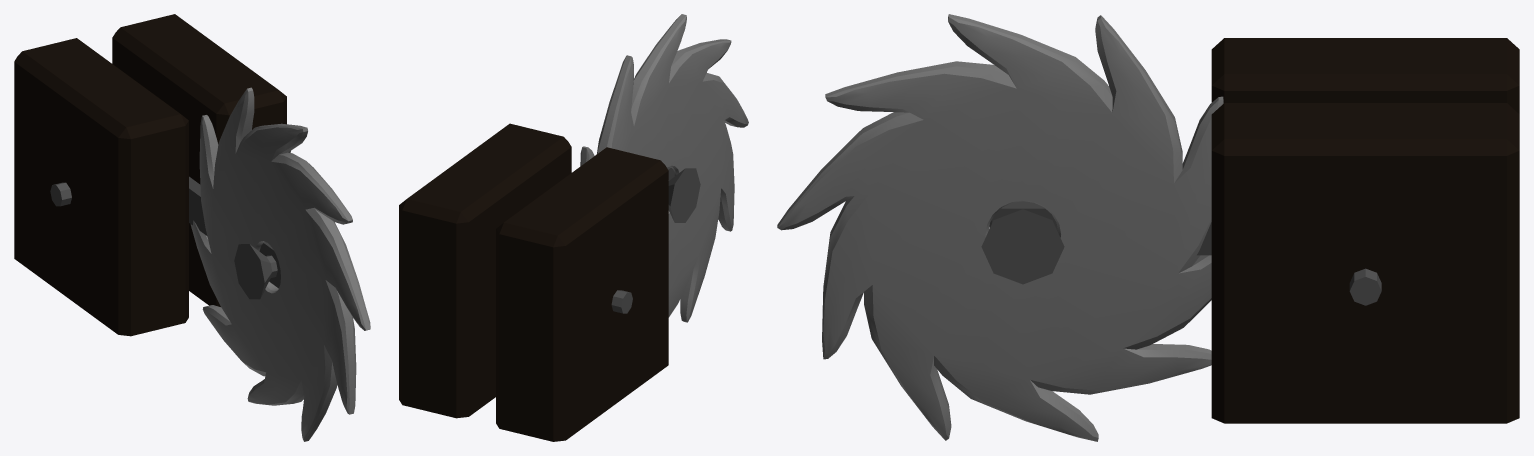
Rendered from SawTrapBilat.glb.
3 views of the same model, side by side, from view 1: azimuth 30°, elevation 25°; view 2: azimuth 150°, elevation 25°; view 3: azimuth 270°, elevation 25° (orthographic). The views are drawn at different scales.
Visible parts, largest first — view 1: Cube, Hazard_Saw, axe; view 2: Cube, Hazard_Saw, axe; view 3: Hazard_Saw, Cube, axe.
Part boxes in pixels (box(x1,y1,x2,y2)): Cube: box(14, 14, 286, 336); Hazard_Saw: box(190, 87, 370, 441); axe: box(50, 176, 280, 299); Cube: box(399, 123, 668, 441); Hazard_Saw: box(580, 14, 748, 322); axe: box(611, 167, 700, 313); Hazard_Saw: box(777, 14, 1223, 441); Cube: box(1211, 38, 1519, 423); axe: box(981, 201, 1381, 305).
Bounding box in the file's own units: 0.8378 × 1.31 × 2.07.
2 materials, 1 textured.
